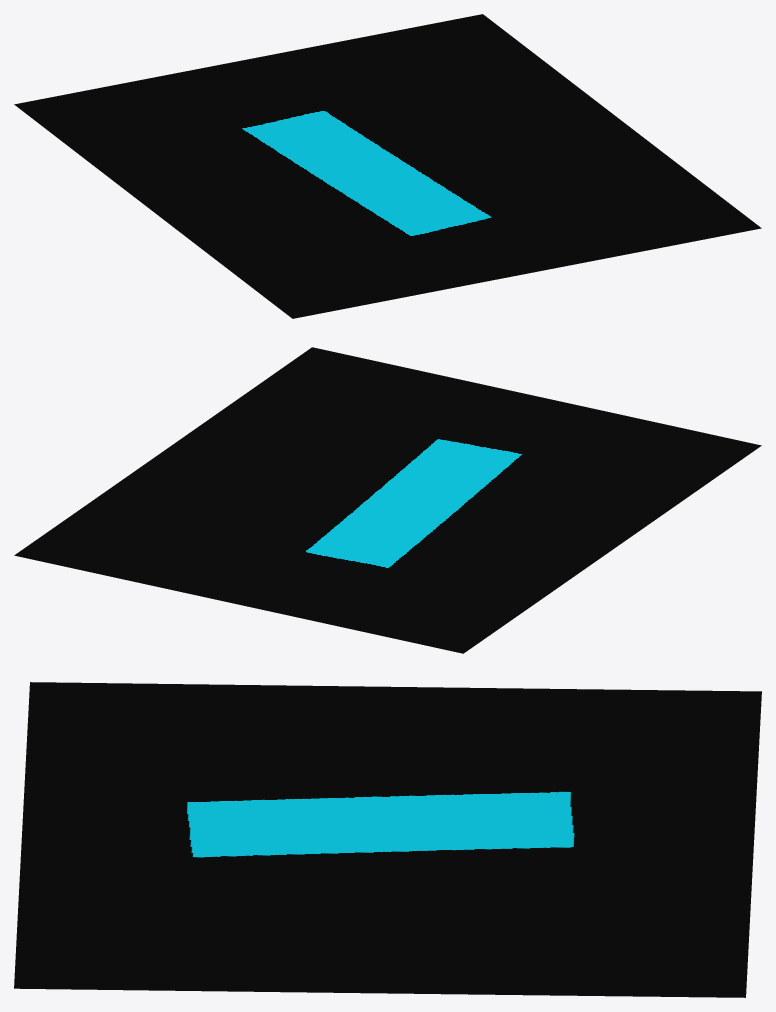
Rendered from KIWX_20030327_055446_REF_0238-41067.png.dae.
3 views of the same model, one above another, from view 1: azimuth 30°, elevation 25°; view 2: azimuth 150°, elevation 25°; view 3: azimuth 270°, elevation 25° (orthographic). The views are drawn at different scales.
Visible parts, largest first — view 1: TIN; view 2: TIN; view 3: TIN.
Part boxes in pixels (left/top/right/bottom): TIN: left=14, top=14, right=761, bottom=318; TIN: left=14, top=347, right=761, bottom=653; TIN: left=14, top=682, right=761, bottom=997.
Bounding box in the file's own units: 5714 × 6197 × 221.
Materials: 1 (1 with a texture image).
